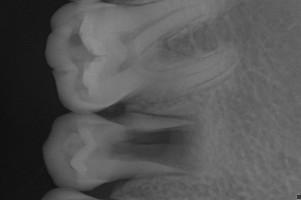Dental Caries: (113, 117, 201, 172)
